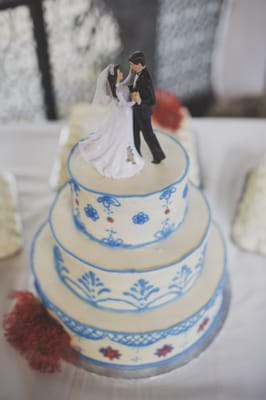sushi: (23, 104, 227, 375)
